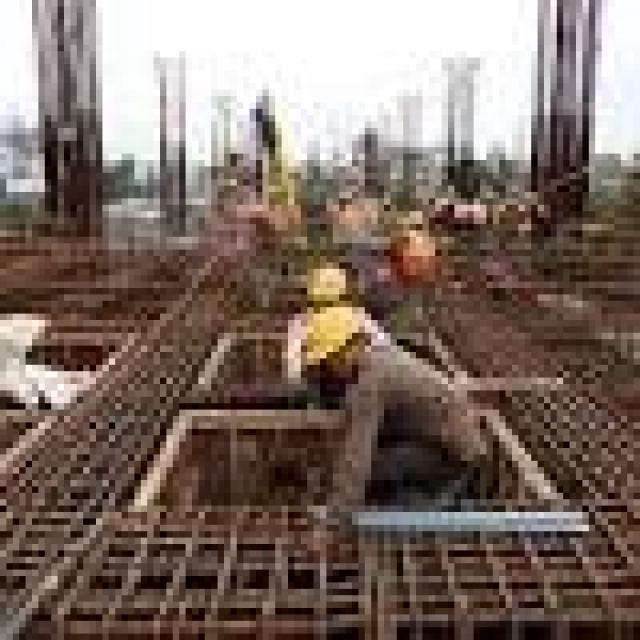Safety-Helmet: (282, 294, 384, 384), (294, 256, 358, 314)
